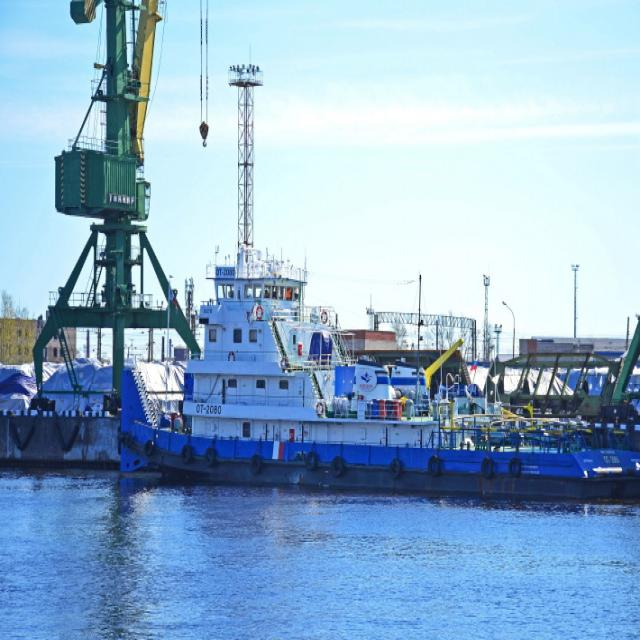tugboat: (118, 242, 640, 502)
